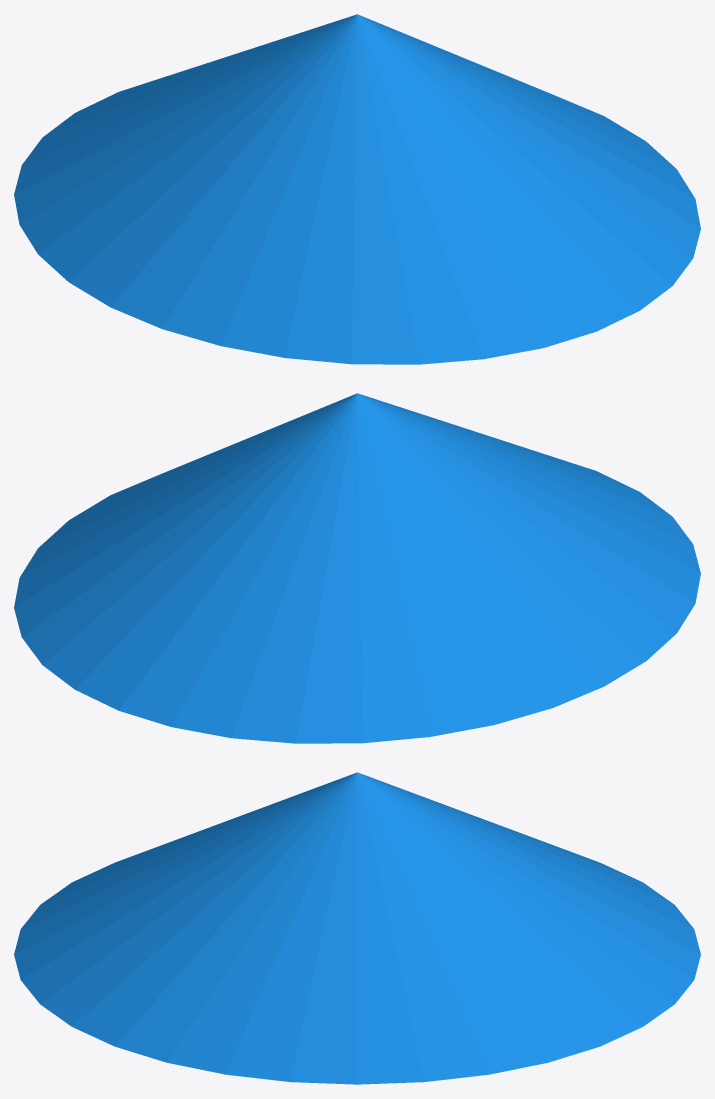
3 views of the same model, one above another, from view 1: azimuth 30°, elevation 25°; view 2: azimuth 150°, elevation 25°; view 3: azimuth 270°, elevation 25° (orthographic). The views are drawn at different scales.
Visible parts, largest first — view 1: Cone; view 2: Cone; view 3: Cone.
Part boxes in pixels (x1,y1,x2,y2): Cone: (14,14,700,364); Cone: (14,393,700,743); Cone: (14,772,700,1084).
Bounding box in the file's own units: 365 × 119 × 408.
